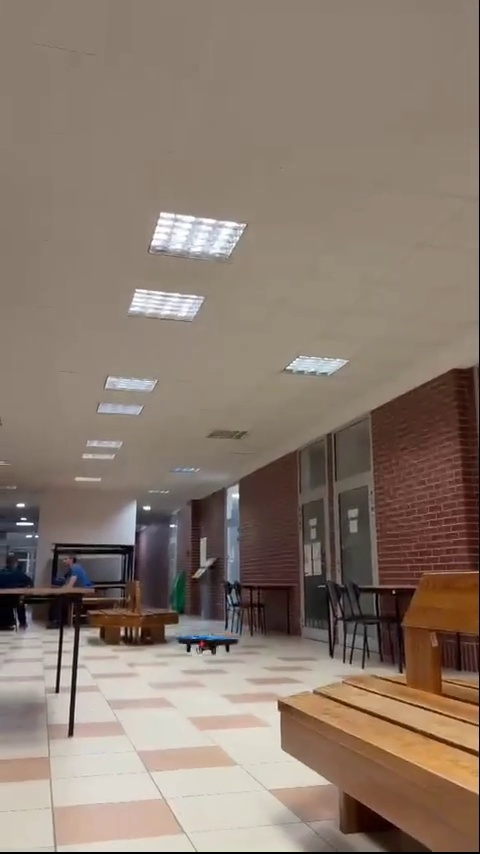drone: (176, 634, 237, 659)
no vest: (60, 548, 95, 608), (2, 551, 32, 617)
